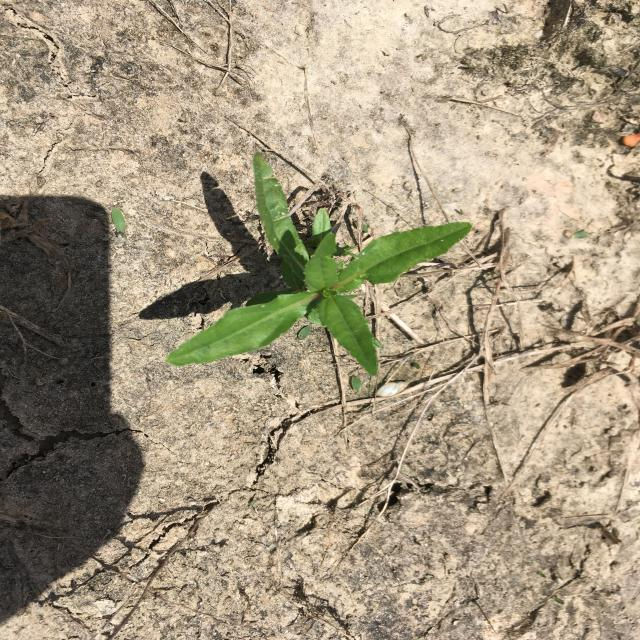Eclipta: (165, 151, 475, 377)
